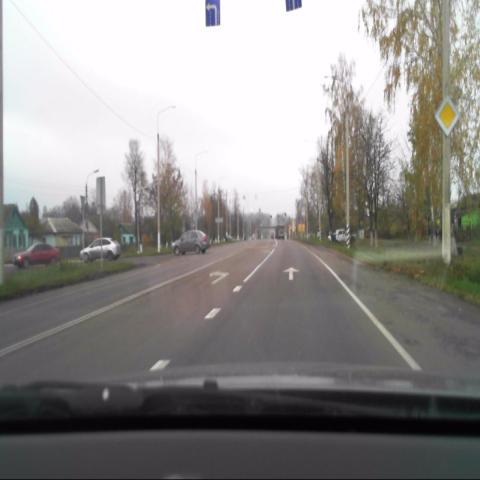5_15_2: (204, 0, 222, 27)
